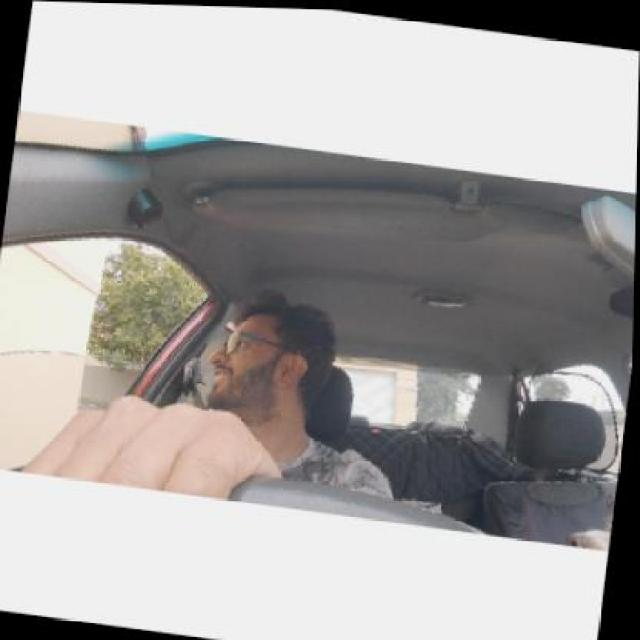LeftRight: (186, 277, 336, 432)
